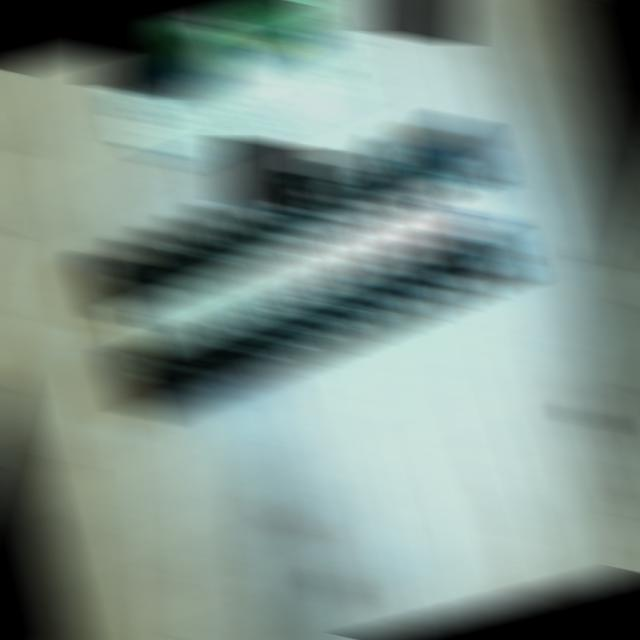Flathead_Block: (74, 114, 533, 420)
Terminal_1: (116, 16, 226, 85), (218, 0, 327, 54)
